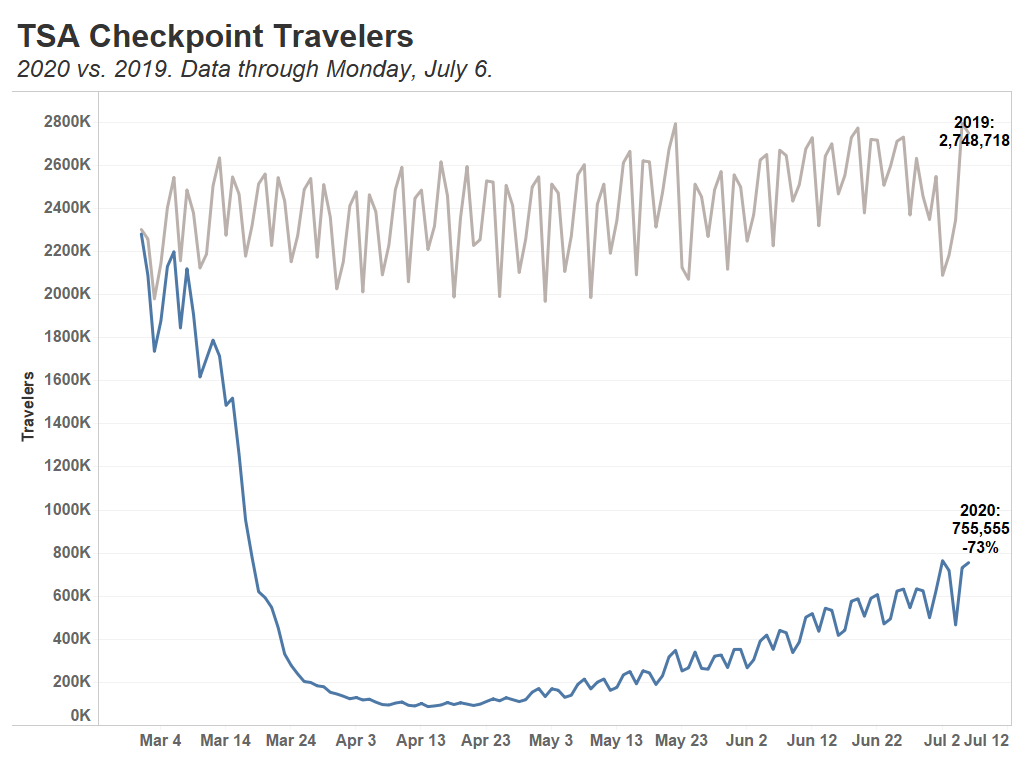

The page's visual inventory and layout, read from the dashboard file:
{"tool":"tableau","page":{"name":"TSA Travelers","canvas":[1024,768],"ordinal":3},"visuals":[{"type":"worksheet","box":[0,0,1024,768]},{"type":"worksheet","title":"Travelers","mark":"Automatic","rows":["2019","2020"],"cols":["Date"],"box":[8,8,1008,752]}]}

Visuals, with their boxes in screenshot pixels (x1, y1, x2, y2), scaled from the page's 1024x768 canvas onto the 1024x768 screenshot:
worksheet: 0,0,1023,767
"Travelers" worksheet: 8,8,1016,760
